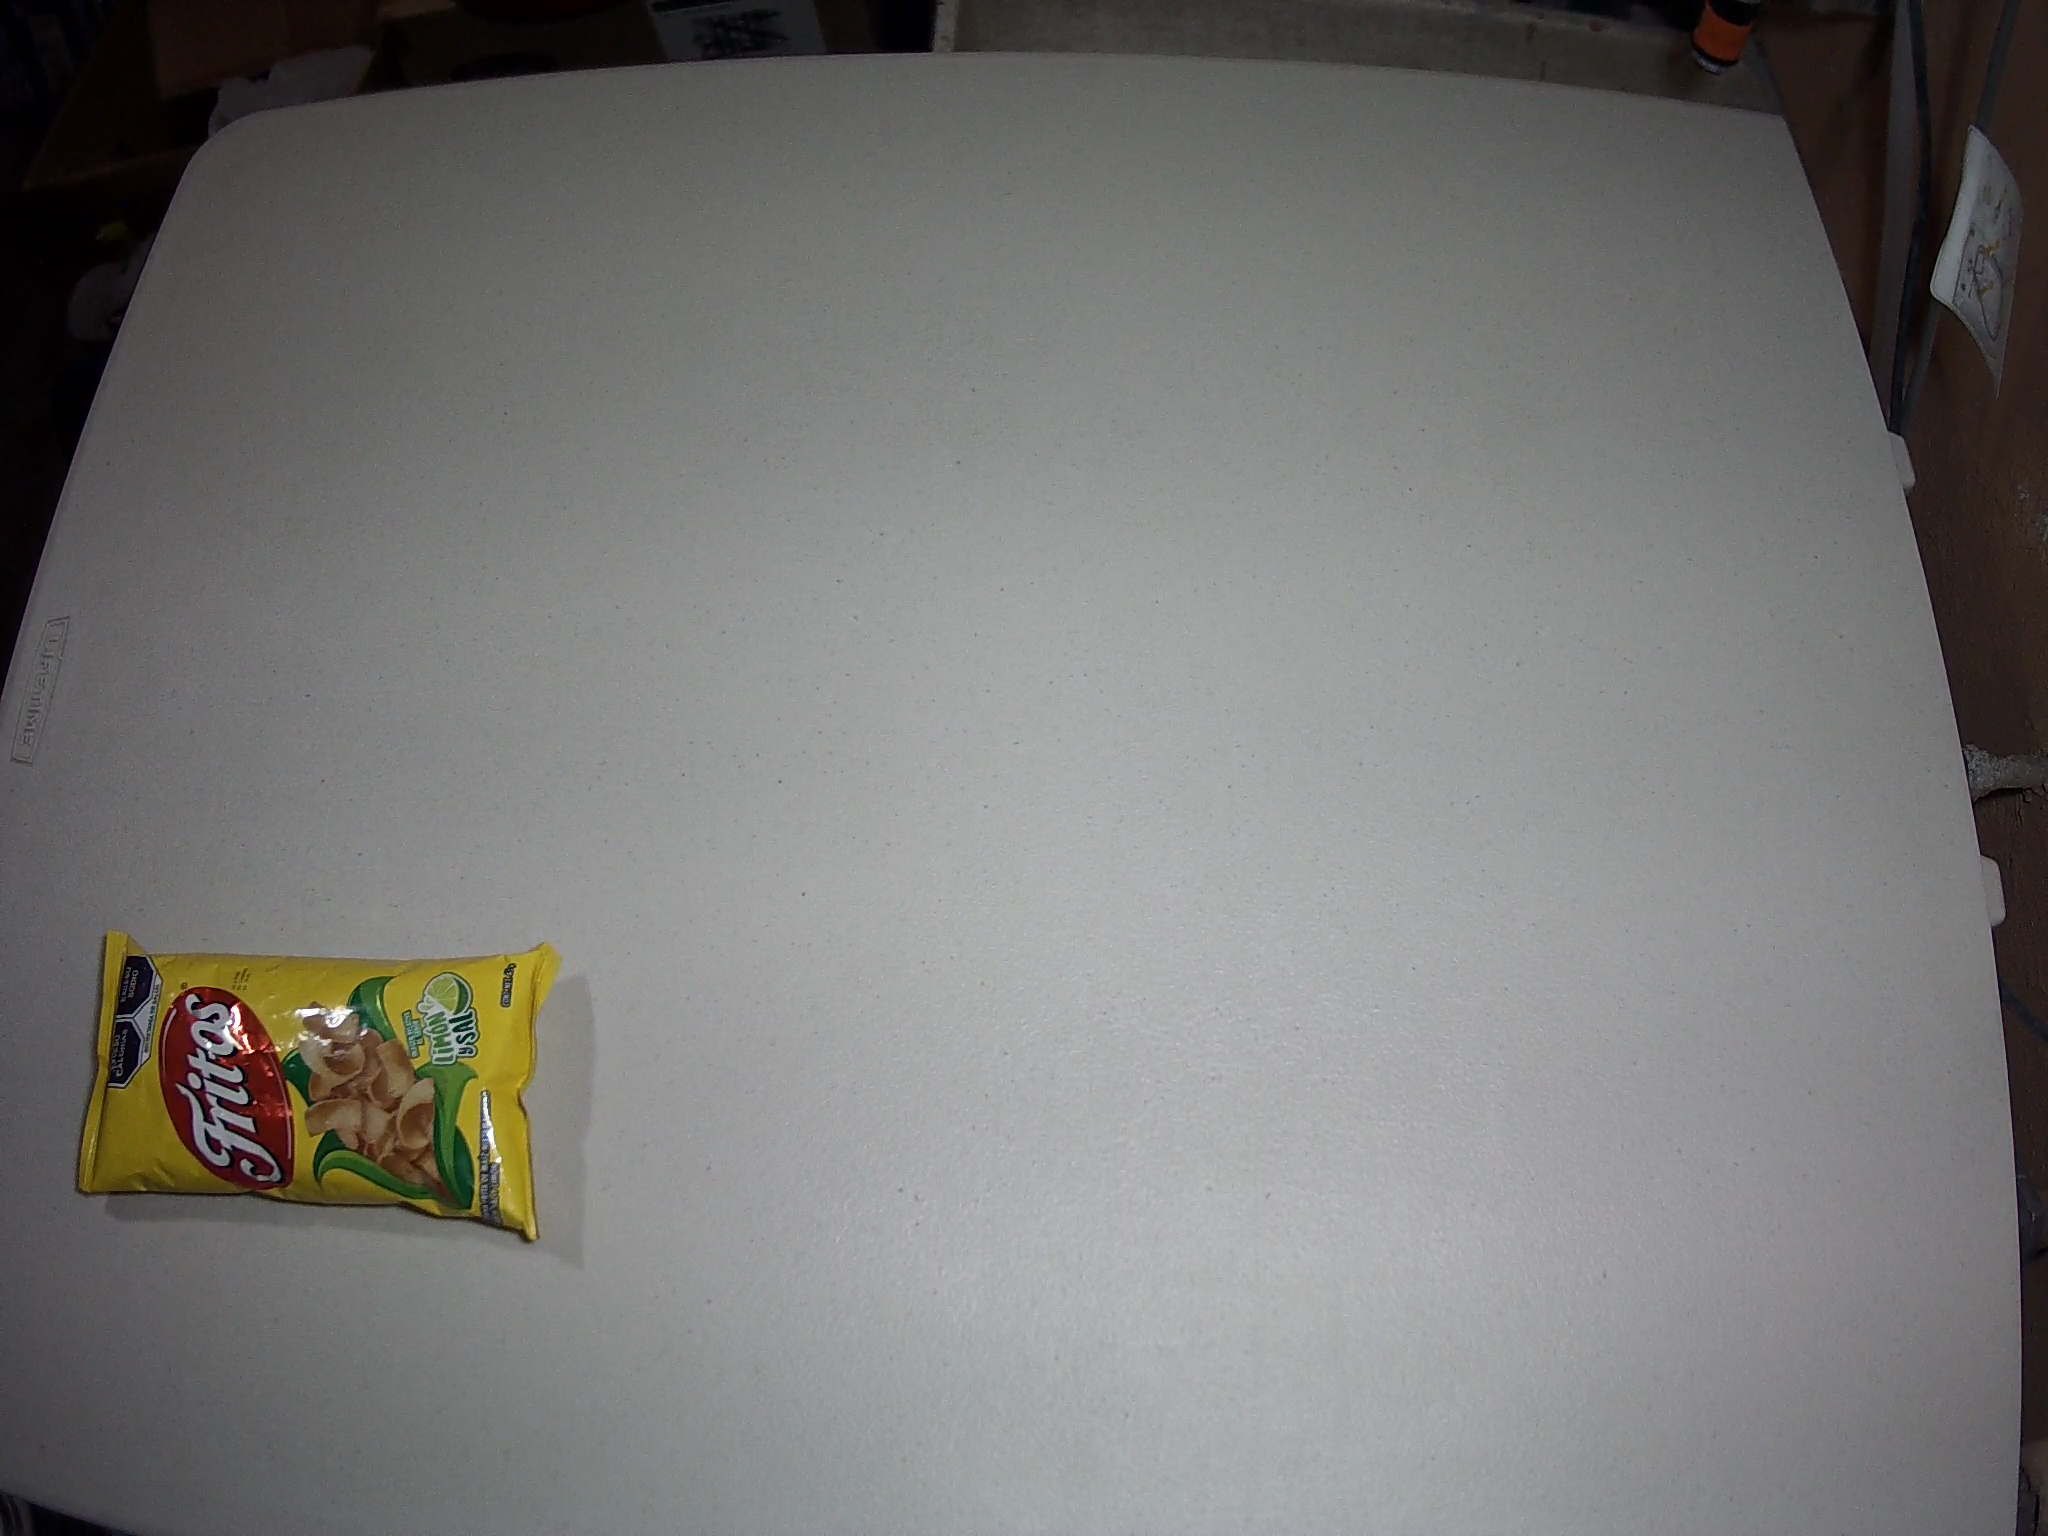FritosSalLimon_65_F: (76, 931, 561, 1247)
